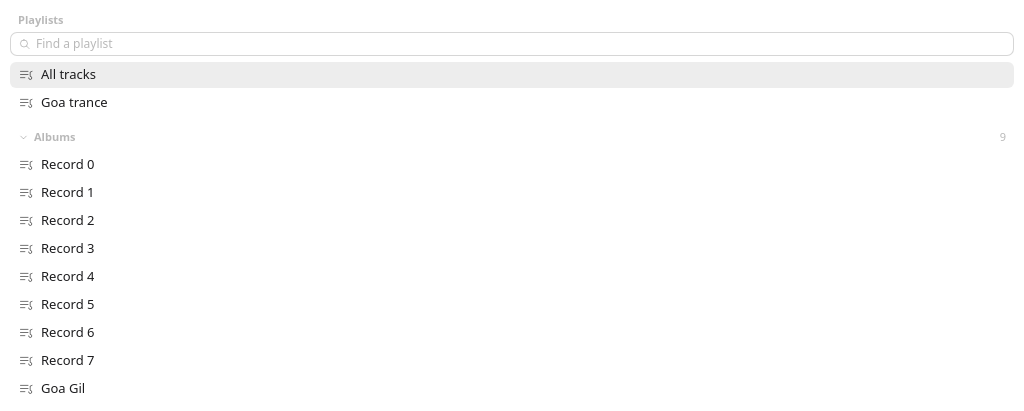
Scenario: the search box appears once the list is long, and filters across both groups
This screenshot has width=1024, height=411.
Click the button "Albums 9" at (55, 137), box [10,126,1014,150]
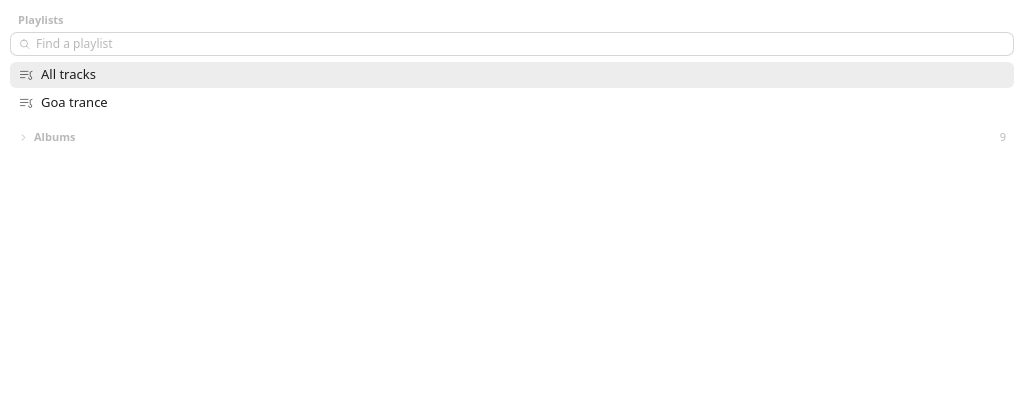
Type "goa" into the search field labelled "Find a playlist" at (512, 44), box [10,32,1014,56]
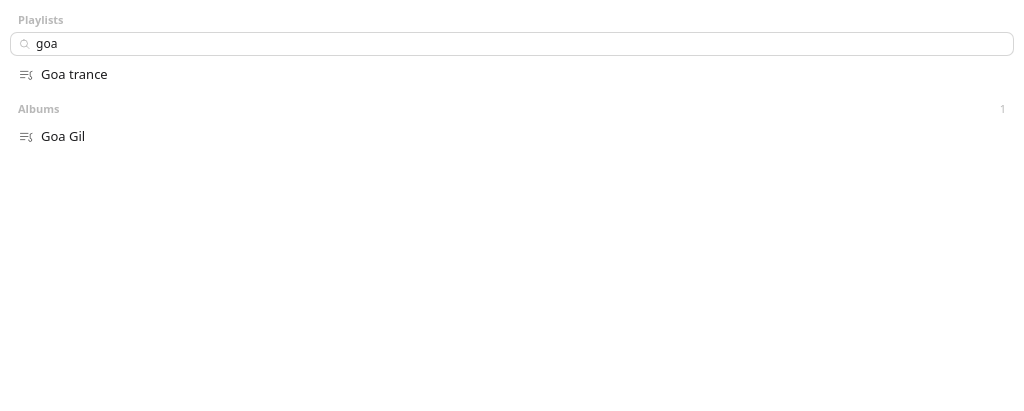
Replace the text in the search field named "Find a playlist" with "zzz" at (512, 44), box [10,32,1014,56]
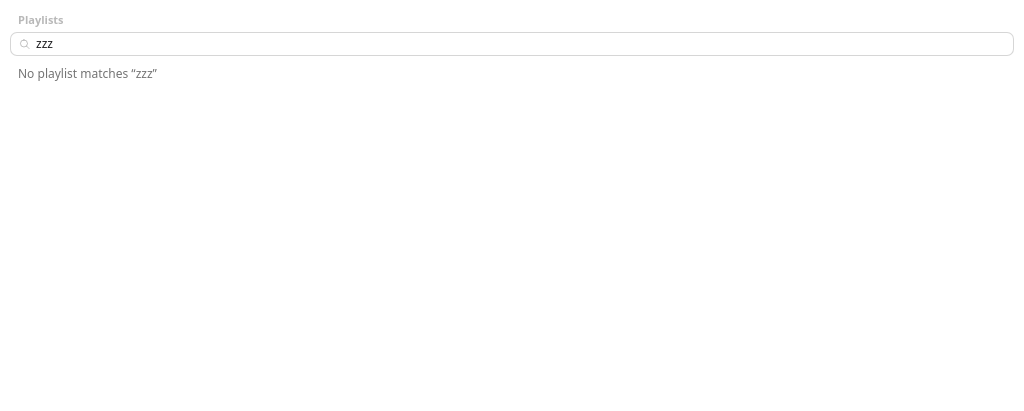
Now the text "No playlist matches “zzz”" is shown, box [18,65,157,82]
